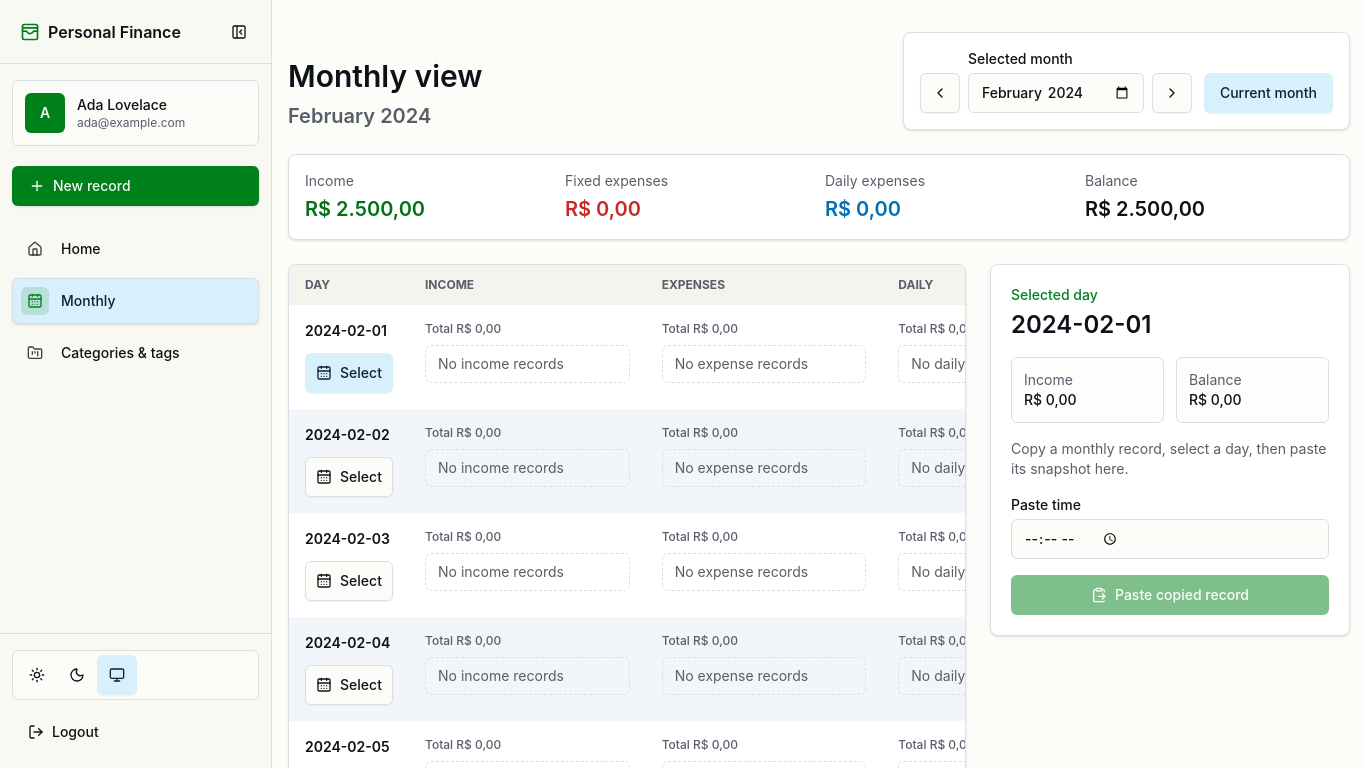
Test: renders leap-year month boundaries and navigates between selected months
This screenshot has width=1366, height=768.
expect the heading "Monthly view" is shown: met, box [288, 58, 482, 94]
expect the field labelled "Selected month" holds "2024-02": met, box [968, 73, 1144, 113]
Click the button named "Next month".
click(1172, 93)  # box [1152, 73, 1192, 113]
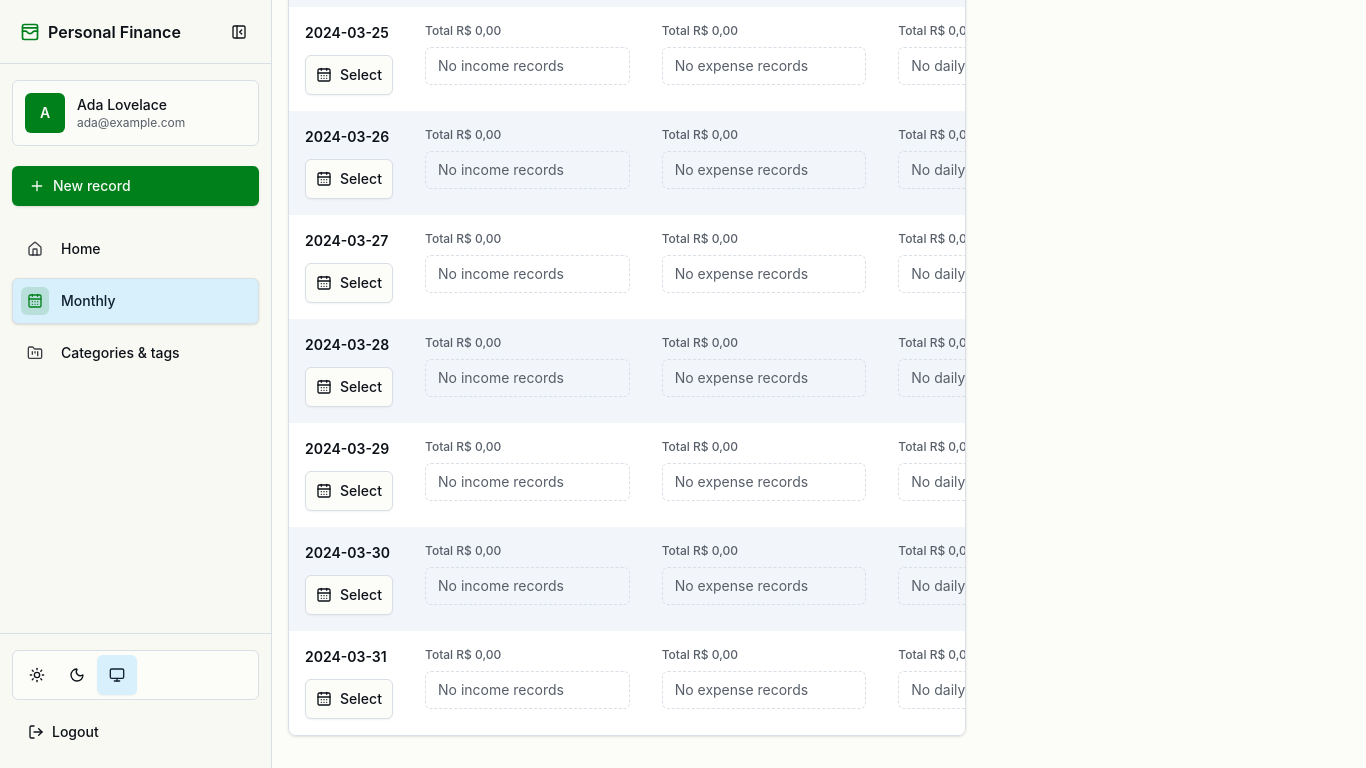
expect the text "2024-03-31" is shown: met, box [305, 648, 387, 665]
